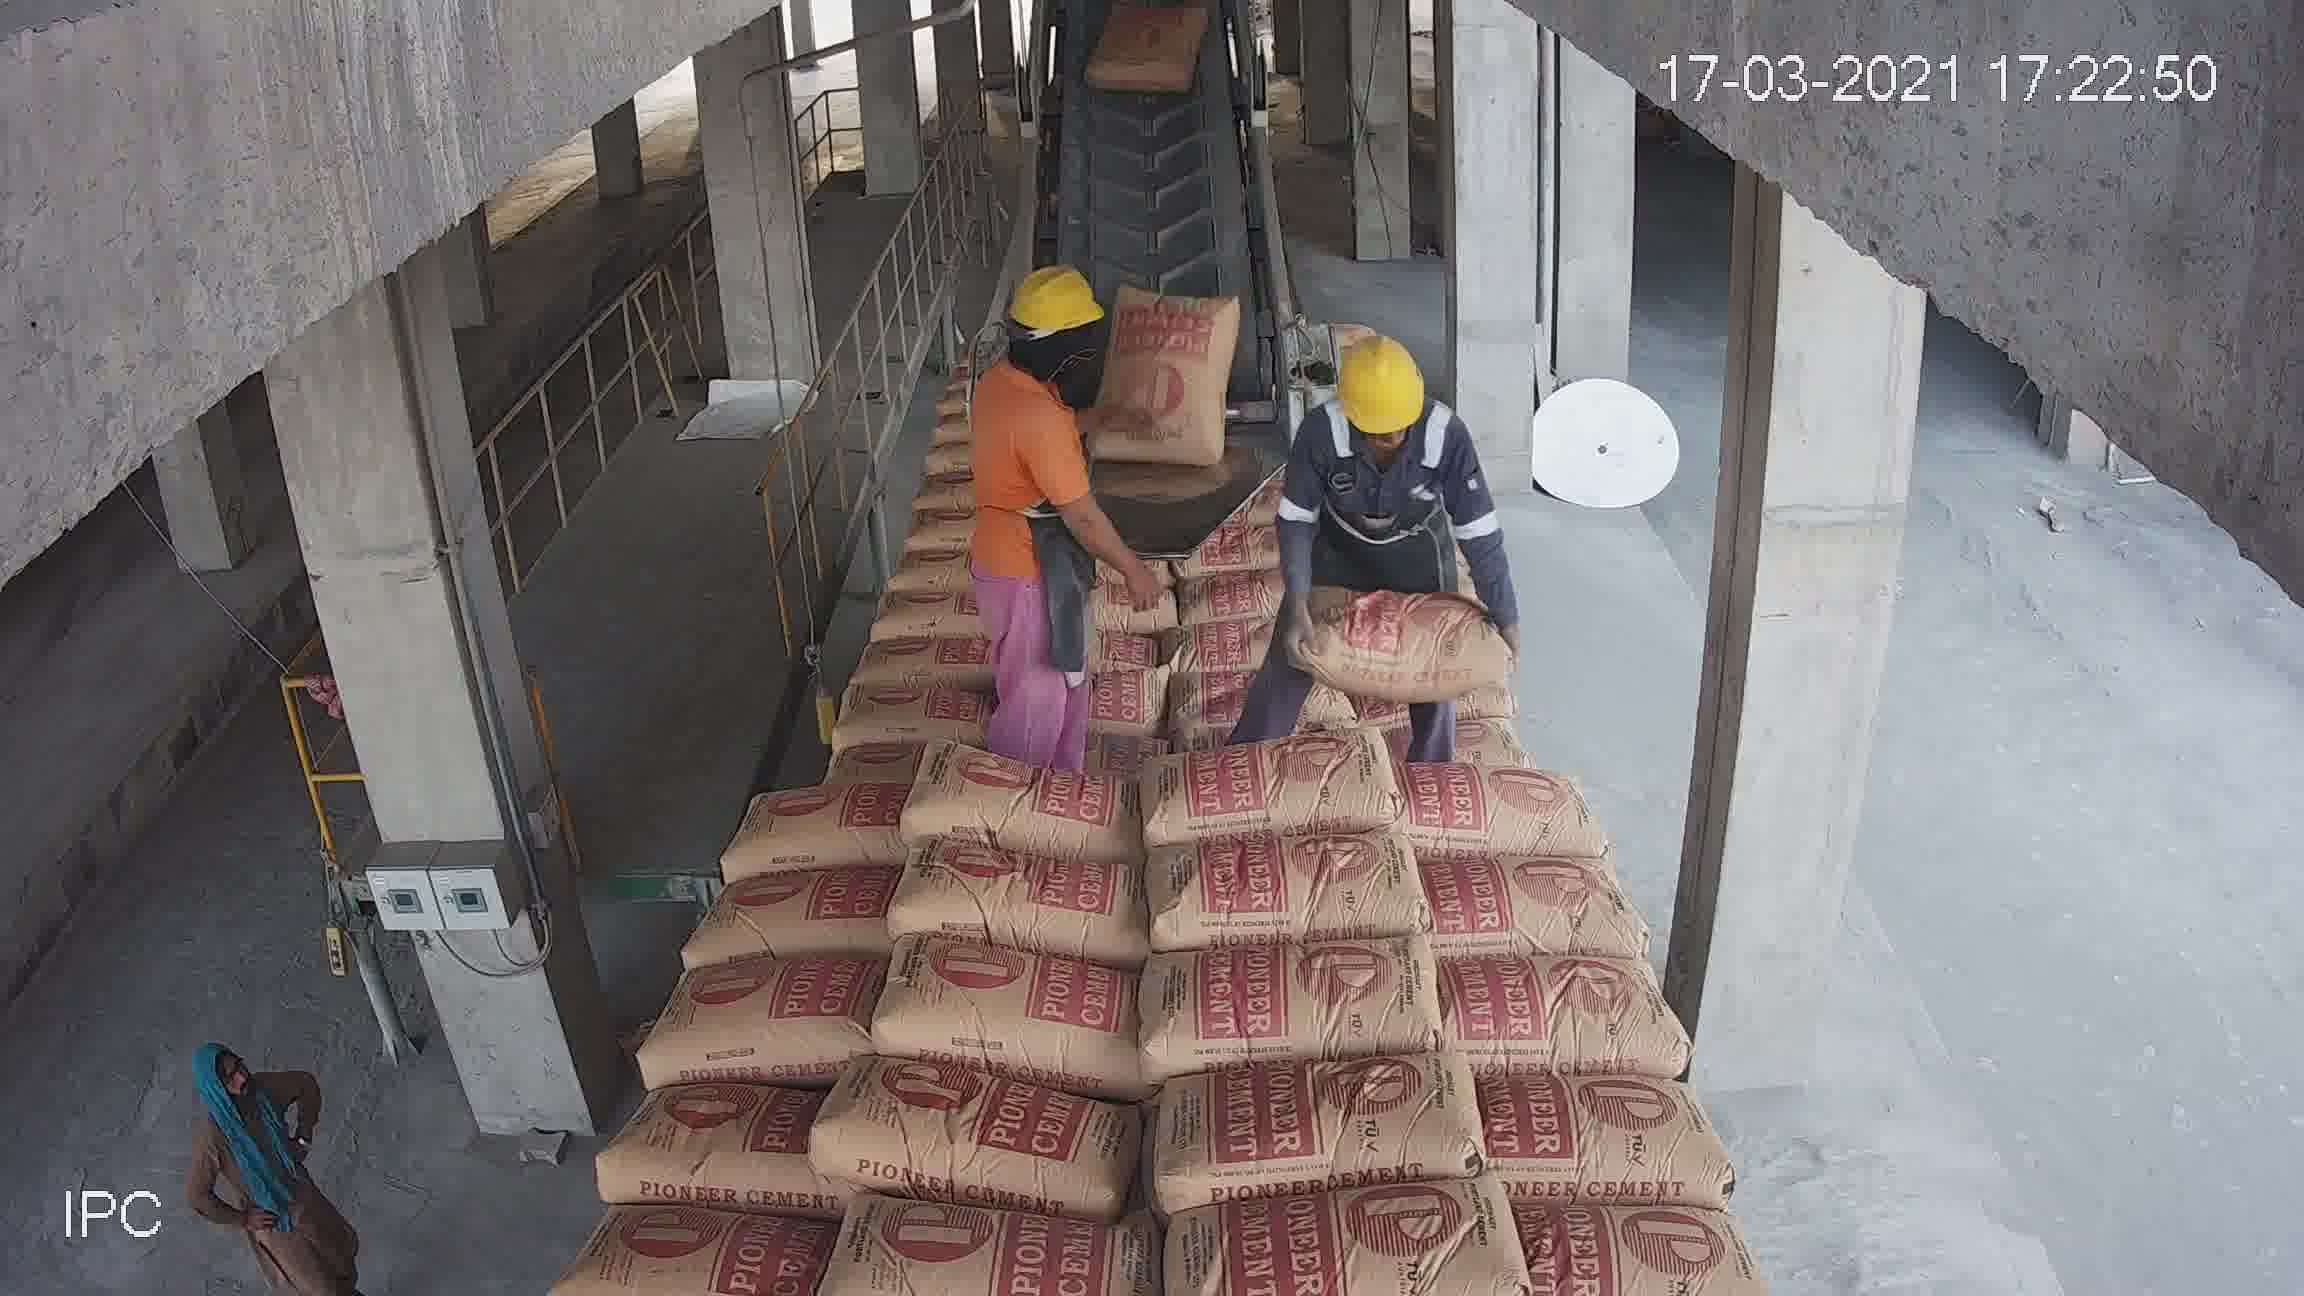bag: (913, 453, 1086, 571), (1090, 120, 1211, 256)
bag_h: (1139, 1036, 1497, 1185), (1130, 932, 1457, 1073), (1168, 1163, 1525, 1285), (807, 1087, 1146, 1203), (1168, 821, 1426, 957), (790, 1207, 1161, 1293), (604, 1079, 820, 1226), (627, 954, 867, 1082), (885, 954, 1166, 1063), (1146, 725, 1375, 847), (1410, 858, 1636, 981), (1487, 1188, 1730, 1296), (1491, 1076, 1715, 1190), (582, 1195, 831, 1296), (1462, 954, 1669, 1073), (902, 859, 1146, 946), (1161, 665, 1370, 764), (1400, 755, 1617, 850), (900, 775, 1144, 859), (680, 859, 889, 956), (706, 786, 911, 873), (1166, 584, 1372, 669), (888, 692, 1149, 752), (748, 717, 919, 804), (1383, 695, 1576, 771), (748, 635, 953, 701), (1374, 609, 1532, 692), (976, 617, 1157, 668), (1367, 551, 1480, 619), (1348, 476, 1443, 546), (1355, 524, 1468, 570), (1097, 491, 1171, 536)
belt: (1029, 0, 1274, 400)
